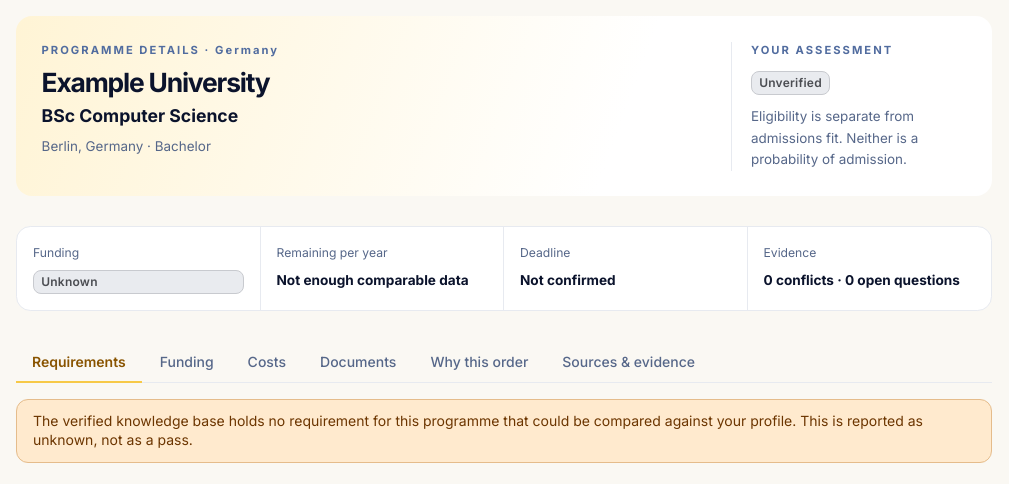
Scenario: the two honest fee shapes (round 11): a per-credit rate and a printed range › lists a per-credit rate as published per credit, with no yearly figure
Click the tab with test id "tab-costs".
click(267, 363)  # box [232,343,302,383]
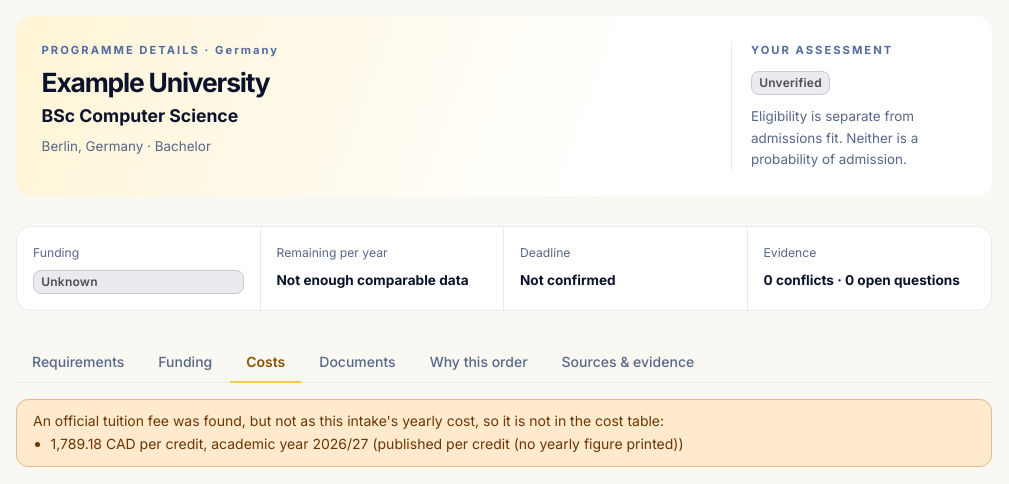
Check: the element with test id "unused-tuition" shows "1,789.18 CAD per credit, academic year 2026/27 (published per credit (no yearly figure printed))", box [51,435,684,452]
